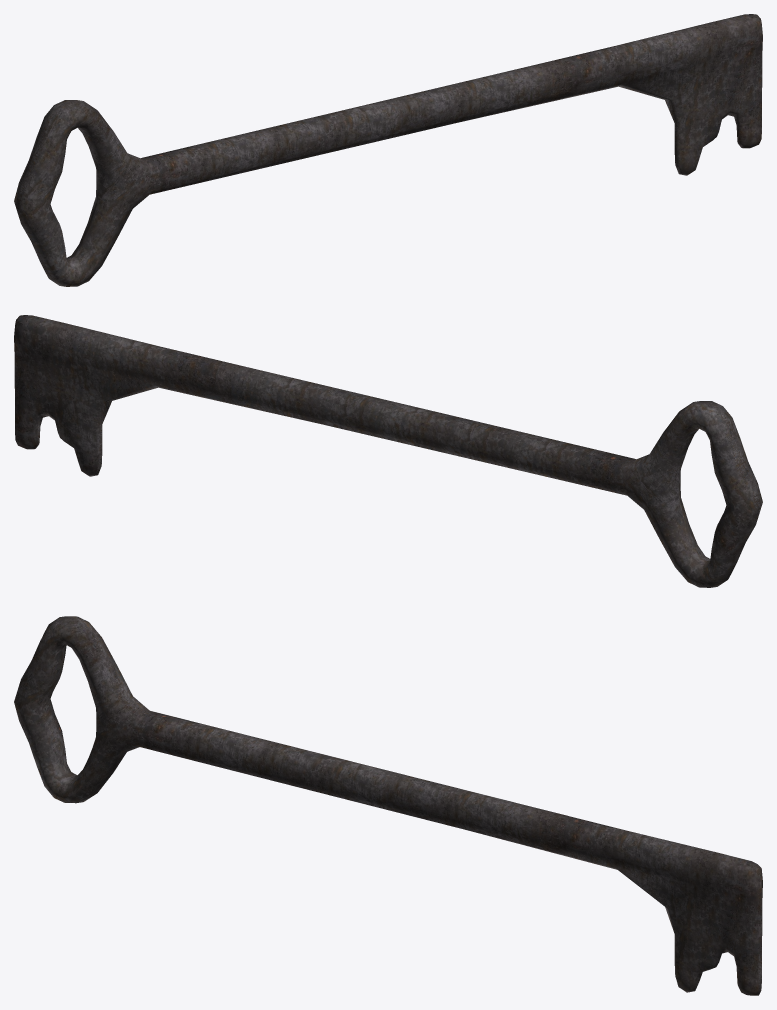
File: key_low_poly.glb
3 views of the same model, one above another, from view 1: azimuth 30°, elevation 25°; view 2: azimuth 150°, elevation 25°; view 3: azimuth 330°, elevation 25° (orthographic).
Parts seen in each view (by area): view 1: Chave.001; view 2: Chave.001; view 3: Chave.001.
Part boxes in pixels (<box>): Chave.001: <box>14,14,762,286</box>; Chave.001: <box>14,315,762,587</box>; Chave.001: <box>14,616,762,995</box>.
Size of the model in its own units: 0.0517 by 0.0149 by 0.00222.
1 material, 1 textured.
